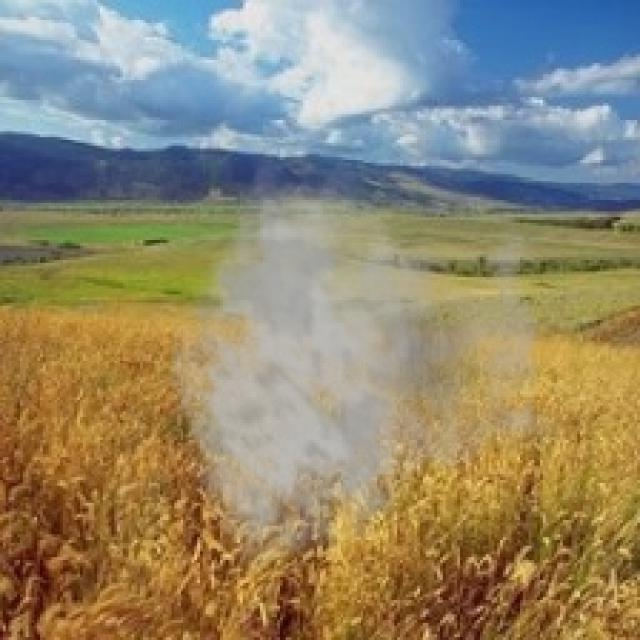smoke: (169, 149, 577, 574)
